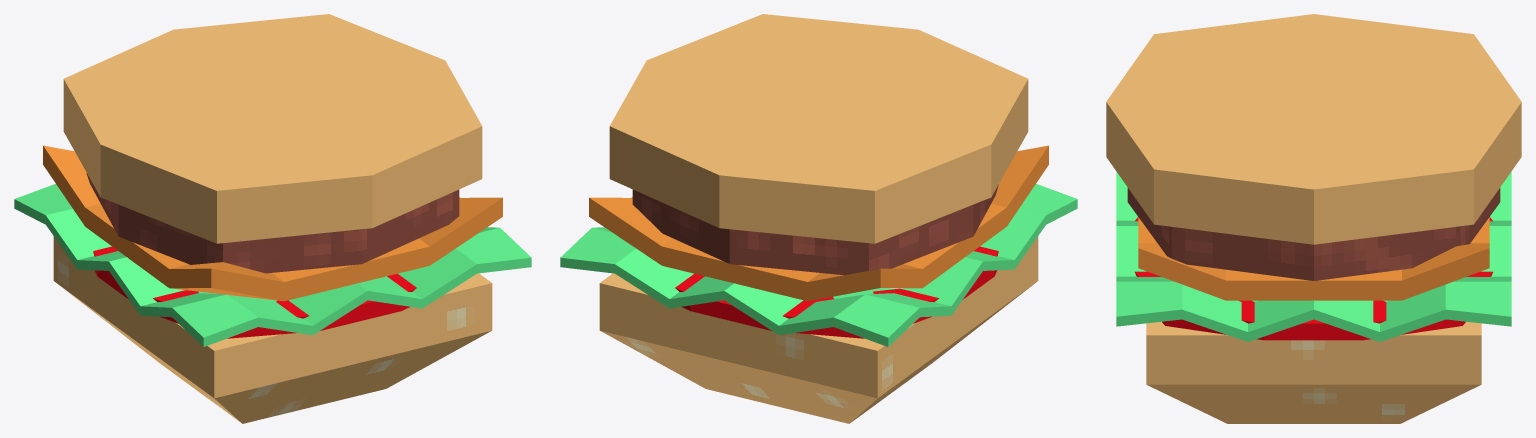
The model's file is burger_v1.fbx.
3 views of the same model, side by side, from view 1: azimuth 30°, elevation 25°; view 2: azimuth 150°, elevation 25°; view 3: azimuth 270°, elevation 25° (orthographic). The views are drawn at different scales.
Parts seen in each view (by area): view 1: Hambuger_1_1, Bun-Top, lettuce, cheese, Bot-Meat, Tomato; view 2: Hambuger_1_1, Bun-Top, lettuce, cheese, Bot-Meat, Tomato; view 3: Hambuger_1_1, Bun-Top, lettuce, Bot-Meat, cheese, Tomato.
Part boxes in pixels (left/top/right/bottom): Hambuger_1_1: left=63, top=14, right=482, bottom=243; Bun-Top: left=53, top=236, right=492, bottom=423; lettuce: left=14, top=184, right=531, bottom=346; cheese: left=43, top=145, right=502, bottom=301; Bot-Meat: left=86, top=173, right=459, bottom=273; Tomato: left=93, top=246, right=416, bottom=338; Hambuger_1_1: left=609, top=14, right=1028, bottom=243; Bun-Top: left=599, top=236, right=1038, bottom=423; lettuce: left=560, top=184, right=1077, bottom=346; cheese: left=589, top=145, right=1048, bottom=301; Bot-Meat: left=632, top=184, right=998, bottom=275; Tomato: left=675, top=246, right=998, bottom=338; Hambuger_1_1: left=1106, top=14, right=1521, bottom=244; Bun-Top: left=1146, top=321, right=1481, bottom=423; lettuce: left=1116, top=171, right=1511, bottom=341; Bot-Meat: left=1127, top=188, right=1500, bottom=280; cheese: left=1138, top=217, right=1489, bottom=300; Tomato: left=1135, top=217, right=1492, bottom=340.
Bounding box in the file's own units: 435 × 330 × 435.
6 materials, 6 textured.
